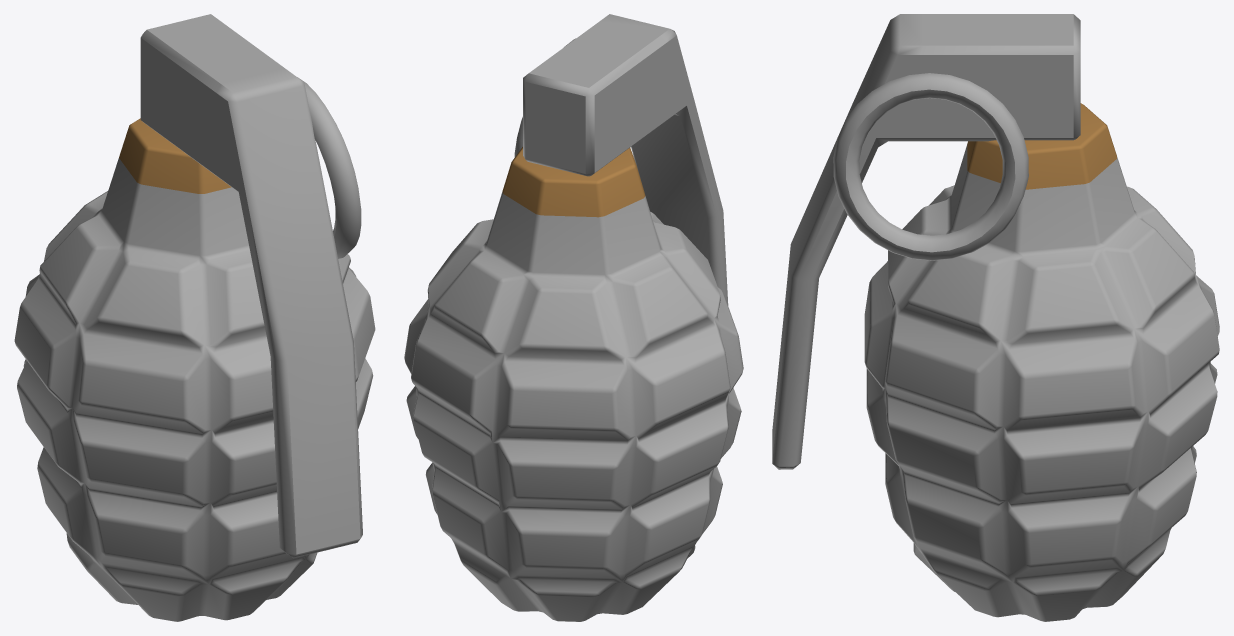
Rendered from grenade.fbx.
3 renders of one model, left to right at view 1: azimuth 30°, elevation 25°; view 2: azimuth 150°, elevation 25°; view 3: azimuth 270°, elevation 25°, orthographic. The views are drawn at different scales.
Parts seen in each view (by area): view 1: Grenade; view 2: Grenade; view 3: Grenade.
Boxes of the visible parts, x1,y1,x2,y2 form: Grenade: [14, 14, 375, 621]; Grenade: [404, 14, 743, 621]; Grenade: [772, 14, 1219, 621].
Size of the model in its own units: 160 by 269 by 196.
